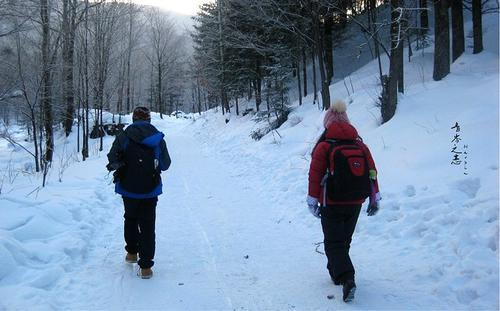up: (301, 94, 389, 302), (99, 102, 179, 276)
